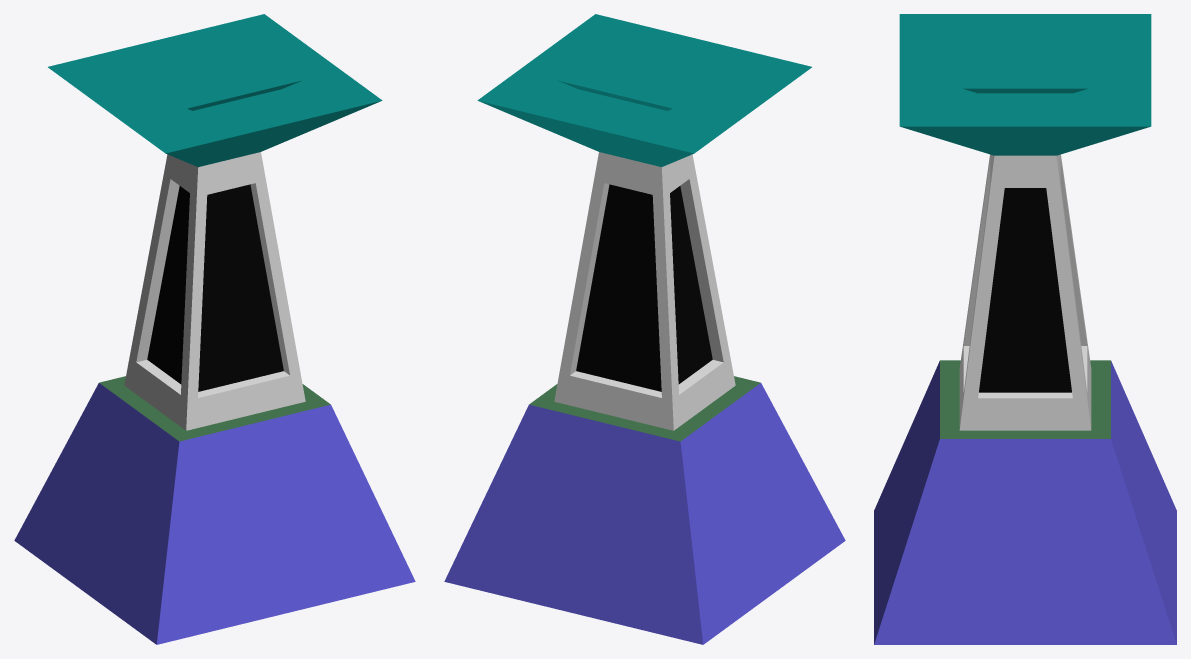
Rendered from Base de la piramide con uv.fbx.
3 renders of one model, left to right at view 1: azimuth 30°, elevation 25°; view 2: azimuth 150°, elevation 25°; view 3: azimuth 270°, elevation 25°, orthographic. The views are drawn at different scales.
Parts seen in each view (by area): view 1: pCube1; view 2: pCube1; view 3: pCube1.
Part boxes in pixels (x1,y1,x2,y2): pCube1: (14, 14, 415, 644); pCube1: (444, 14, 845, 644); pCube1: (874, 14, 1176, 644).
Bounding box in the file's own units: 1.62 × 2.92 × 1.54.
